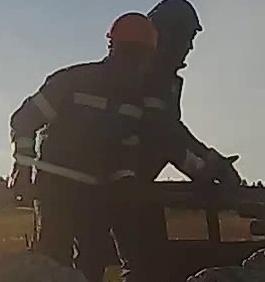gloves: (202, 146, 243, 190), (176, 150, 216, 186), (7, 163, 36, 210)
helmet: (107, 12, 157, 48)
vest: (28, 64, 142, 229), (144, 76, 183, 208)
